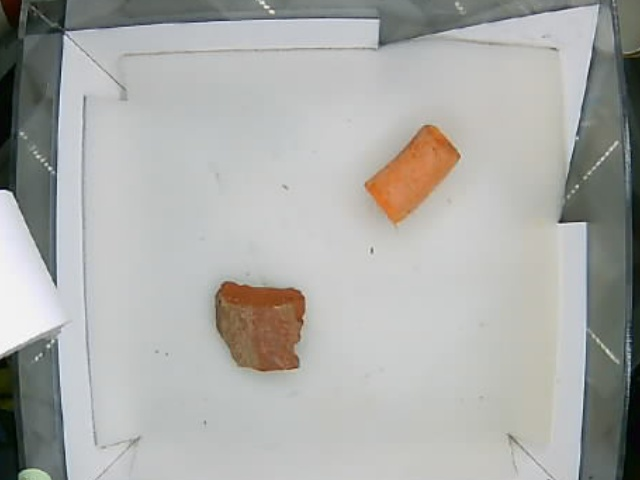Brisk: (212, 280, 306, 371)
Carrot: (363, 123, 460, 226)
